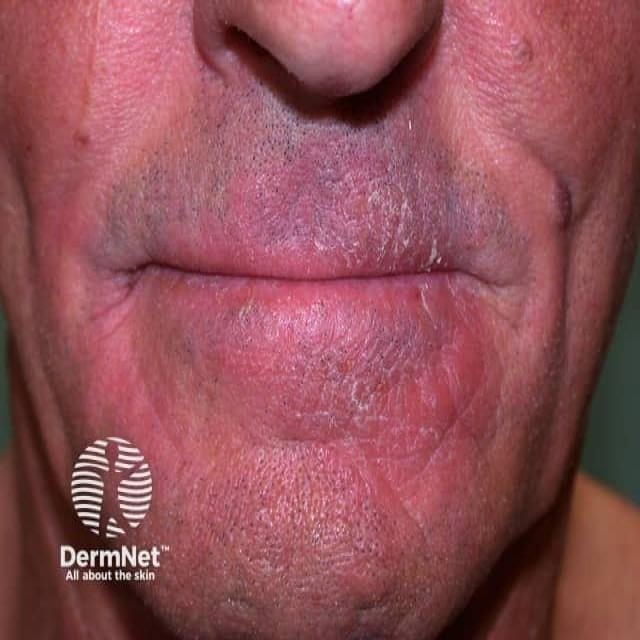Eczema: (108, 135, 475, 460)
